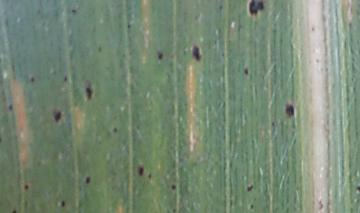tarspot: (246, 1, 266, 17), (189, 44, 202, 62), (283, 101, 295, 119), (51, 106, 63, 123), (83, 85, 93, 100), (155, 48, 163, 60), (137, 164, 144, 177), (317, 198, 323, 213), (346, 20, 354, 31), (84, 174, 92, 185), (96, 43, 104, 54), (242, 66, 250, 76), (245, 184, 254, 192), (248, 202, 255, 211), (217, 3, 224, 12), (313, 56, 320, 65), (59, 198, 66, 207), (169, 183, 177, 190), (146, 172, 153, 180), (7, 104, 14, 112), (219, 51, 226, 59), (62, 74, 68, 83), (270, 119, 276, 128), (111, 126, 118, 133), (28, 75, 35, 82), (126, 22, 132, 30), (23, 183, 29, 191), (355, 184, 360, 193), (70, 8, 77, 14), (170, 207, 177, 213), (310, 24, 315, 32), (10, 209, 17, 213), (1, 135, 3, 143)
